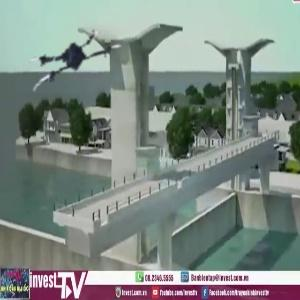drone: (26, 19, 126, 119)
